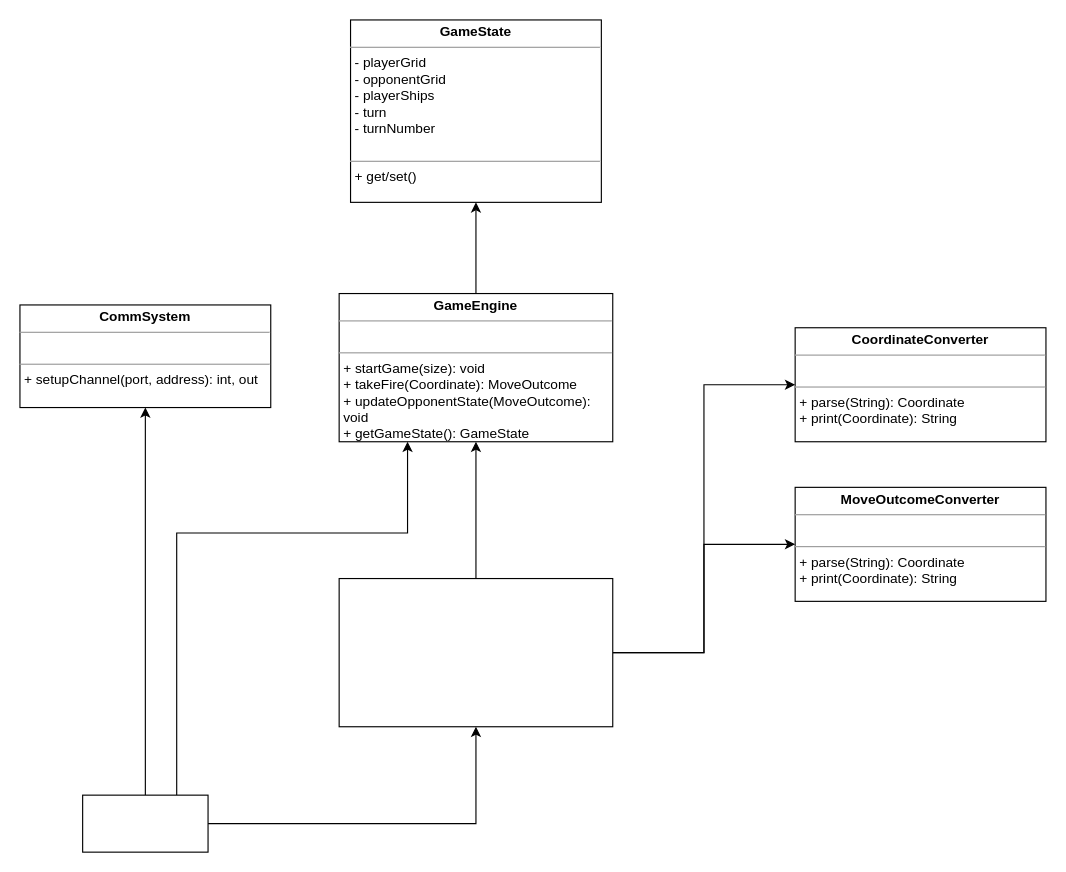
The diagram is 1066 pixels wide and 872 high, and some of its shapes have lost their labels. The centre of each missing label's shape, as x and y in pixels:
"client" belongs at (x=145, y=823).
"MoveDirector + makeMove(turn): - takeAttack() - sendAttack()" belongs at (x=475, y=652).
